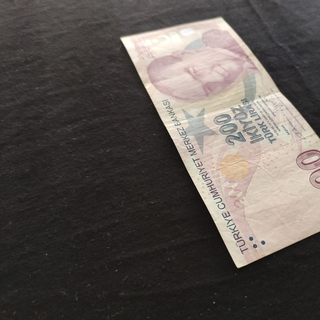200TLFront: (120, 15, 320, 269)
